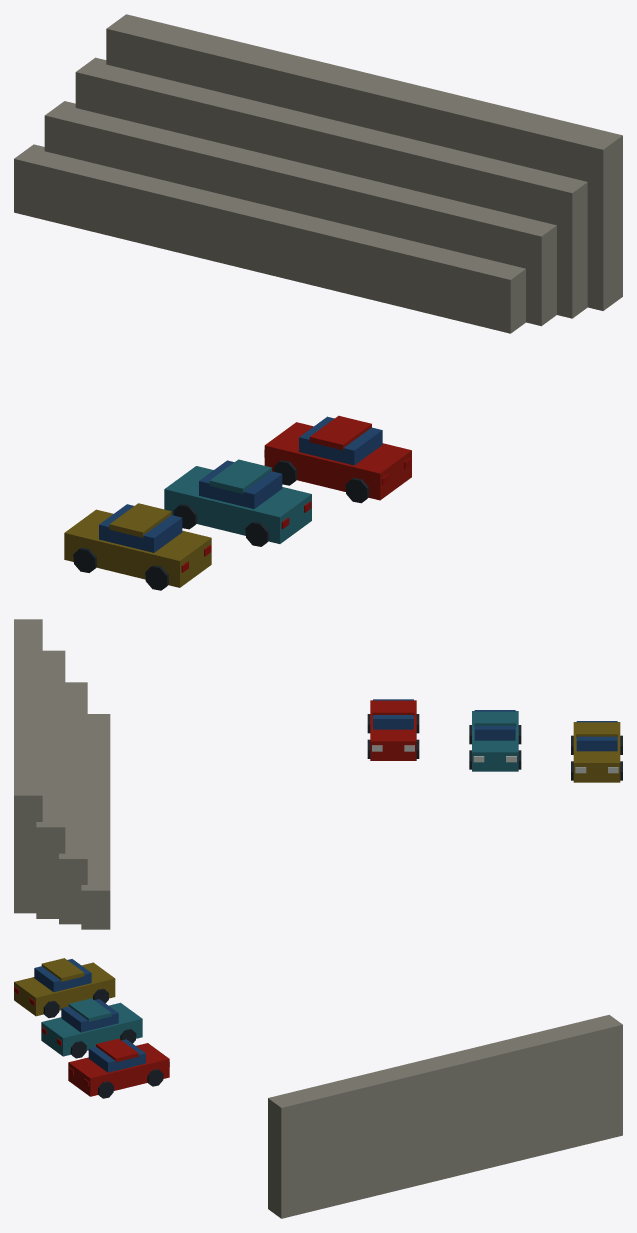
Rendered from suburb1.glb.
The picture shows the model from 3 angles, top to bottom: view 1: azimuth 30°, elevation 25°; view 2: azimuth 150°, elevation 25°; view 3: azimuth 270°, elevation 25°; orthographic projection. The views are drawn at different scales.
Parts seen in each view (by area): view 1: suburb1; view 2: suburb1; view 3: suburb1.
Part boxes in pixels (box(x1,y1,x2,y2)): suburb1: box(14, 14, 622, 590); suburb1: box(14, 619, 622, 929); suburb1: box(14, 958, 622, 1218).
Size of the model in its own units: 40.6 by 9 by 44.79.
